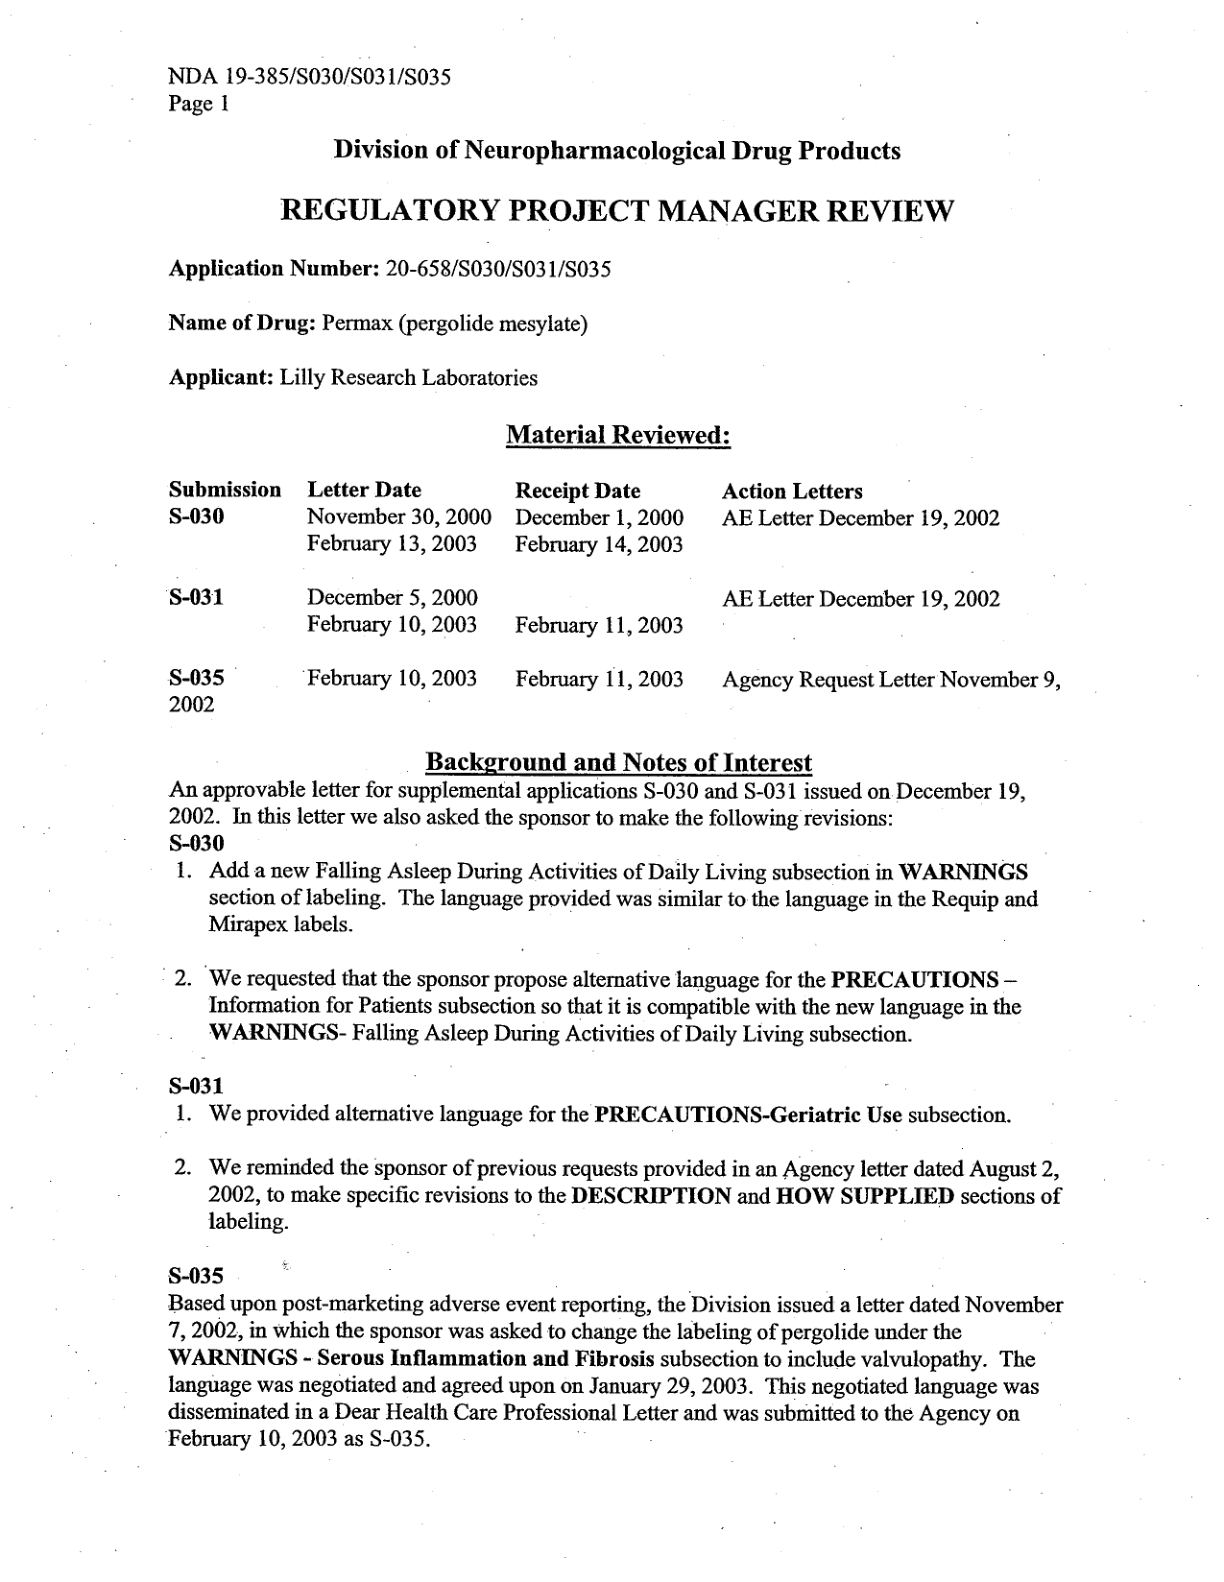nolines: (164, 476, 1062, 717)
